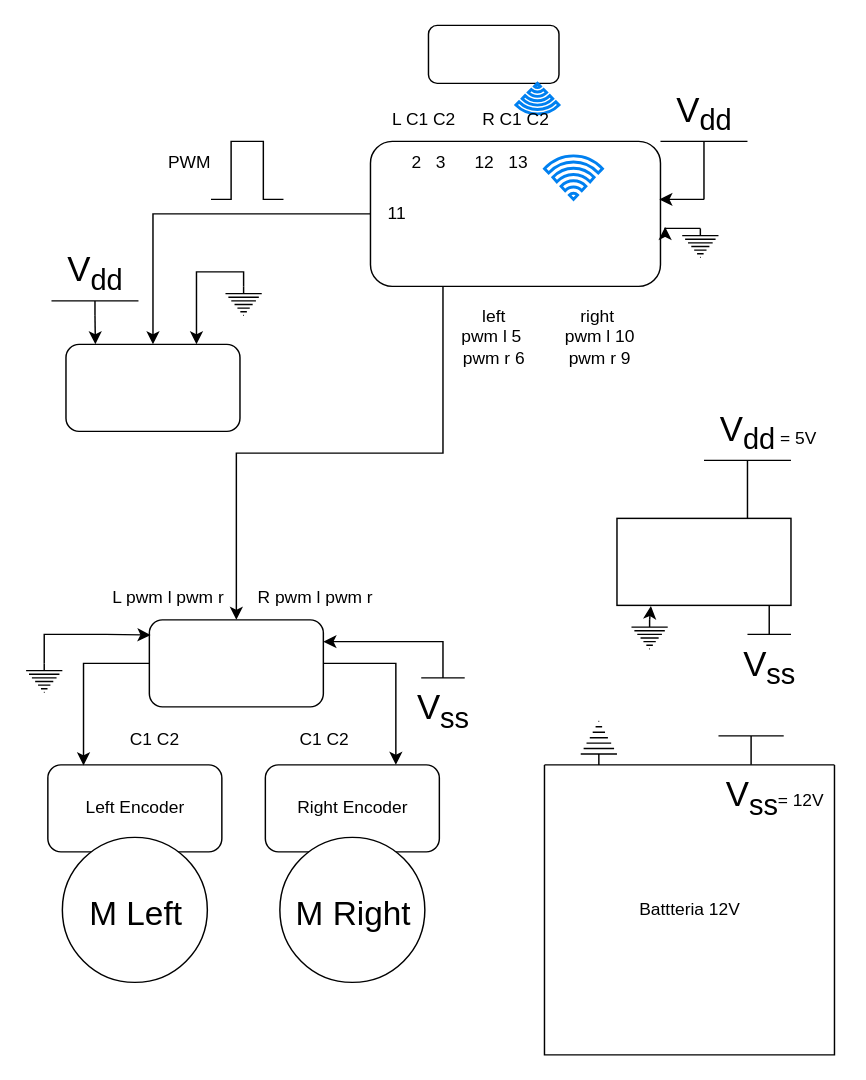
Some shapes in this 866 by 1080 pixel diagram are drawn without their labels. Each missing label, with the box of its shape:
Ardunio uno r4 wifi: (369, 140, 660, 286)
dc-dc 12V-5V: (616, 517, 791, 605)
Motor driver L298n: (148, 618, 323, 707)
Remote PC: (427, 24, 559, 83)
servo motor sterzo: (65, 343, 240, 431)
